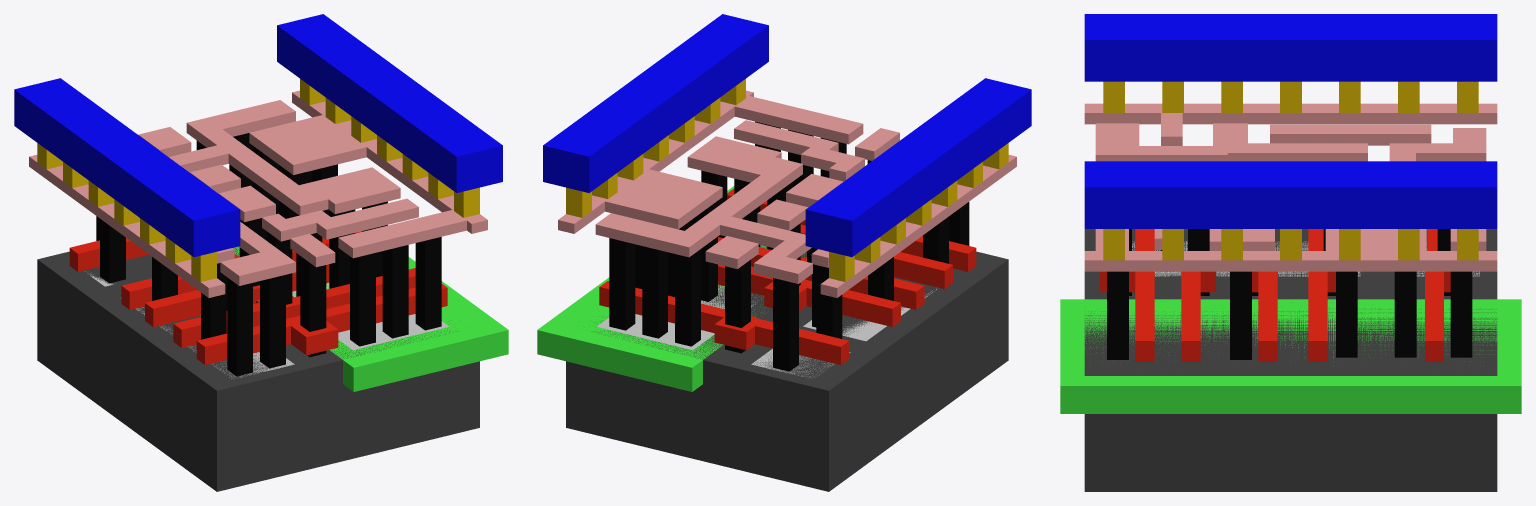
Rendered from sky130_fd_sc_hd__o221ai_1.obj.
3 renders of one model, left to right at view 1: azimuth 30°, elevation 25°; view 2: azimuth 150°, elevation 25°; view 3: azimuth 270°, elevation 25°, orthographic. The views are drawn at different scales.
Parts seen in each view (by area): view 1: subs, metal1, li, licon, poly, nwell, mcon, tap, diff; view 2: subs, metal1, li, licon, poly, nwell, mcon, diff, tap; view 3: metal1, subs, li, nwell, poly, licon, mcon, diff.
Part boxes in pixels (x1,y1,x2,y2): subs: (37, 246, 479, 491); metal1: (14, 14, 502, 257); li: (29, 90, 487, 297); licon: (96, 133, 441, 376); poly: (69, 231, 447, 364); nwell: (233, 246, 508, 391); mcon: (37, 79, 479, 281); tap: (234, 248, 449, 350); diff: (84, 271, 294, 379); subs: (566, 245, 1008, 491); metal1: (543, 14, 1031, 257); li: (558, 90, 1016, 297); licon: (609, 121, 969, 371); poly: (599, 189, 976, 364); nwell: (537, 186, 804, 391); mcon: (566, 79, 1008, 281); diff: (751, 289, 936, 378); tap: (596, 284, 761, 350); metal1: (1084, 14, 1497, 228); subs: (1084, 229, 1497, 491); li: (1084, 103, 1497, 271); nwell: (1060, 299, 1521, 413); poly: (1100, 229, 1450, 361); licon: (1107, 229, 1472, 359); mcon: (1103, 81, 1478, 260); diff: (1132, 241, 1479, 276).
Size of the model in its own units: 3.2 by 2.74 by 3.6.
